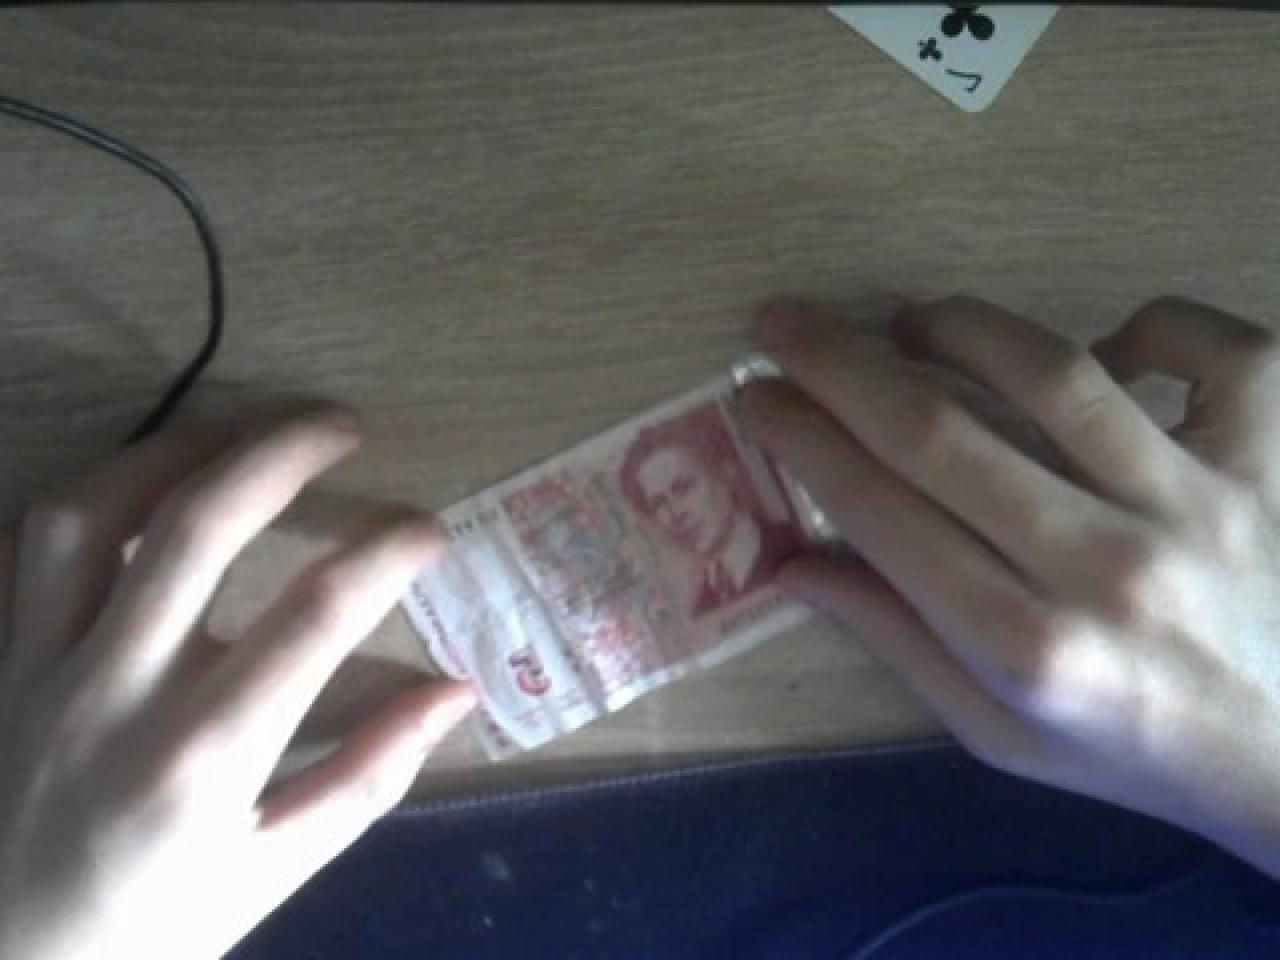5leva: (400, 349, 859, 752)
